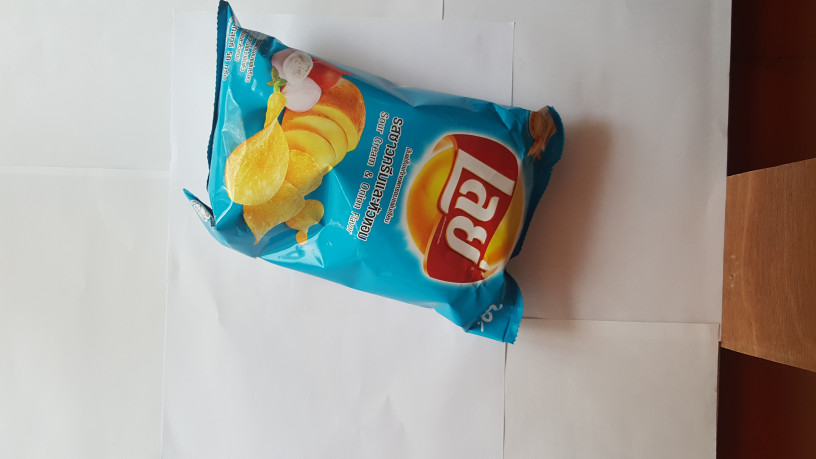lays-onion: (174, 1, 583, 347)
